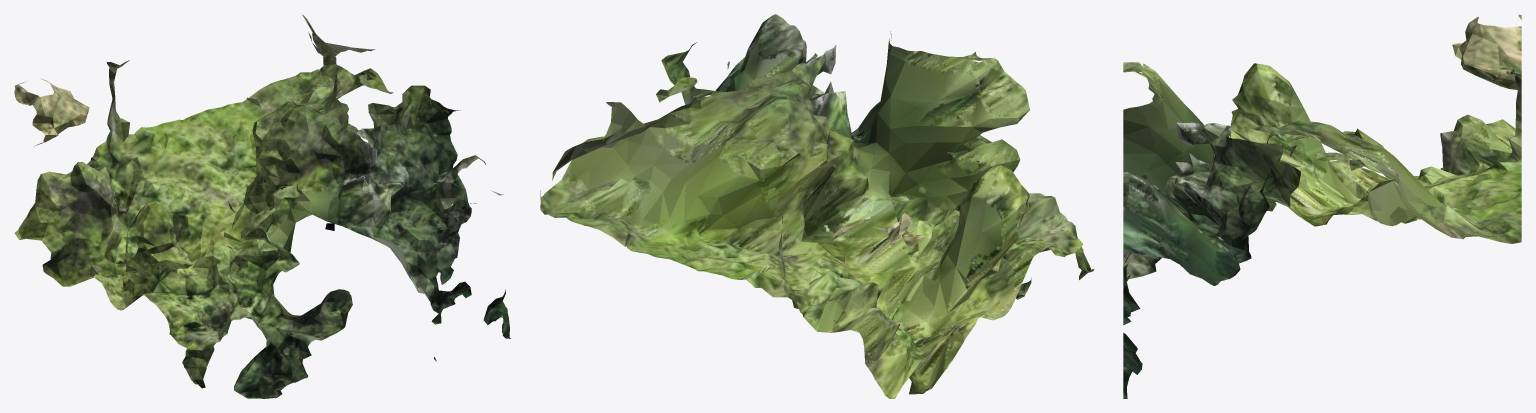
3 renders of one model, left to right at view 1: azimuth 30°, elevation 25°; view 2: azimuth 150°, elevation 25°; view 3: azimuth 270°, elevation 25°, orthographic. The views are drawn at different scales.
Bounding box in the file's own units: 26.11 × 16.07 × 26.11.
5 materials, 5 textured.
